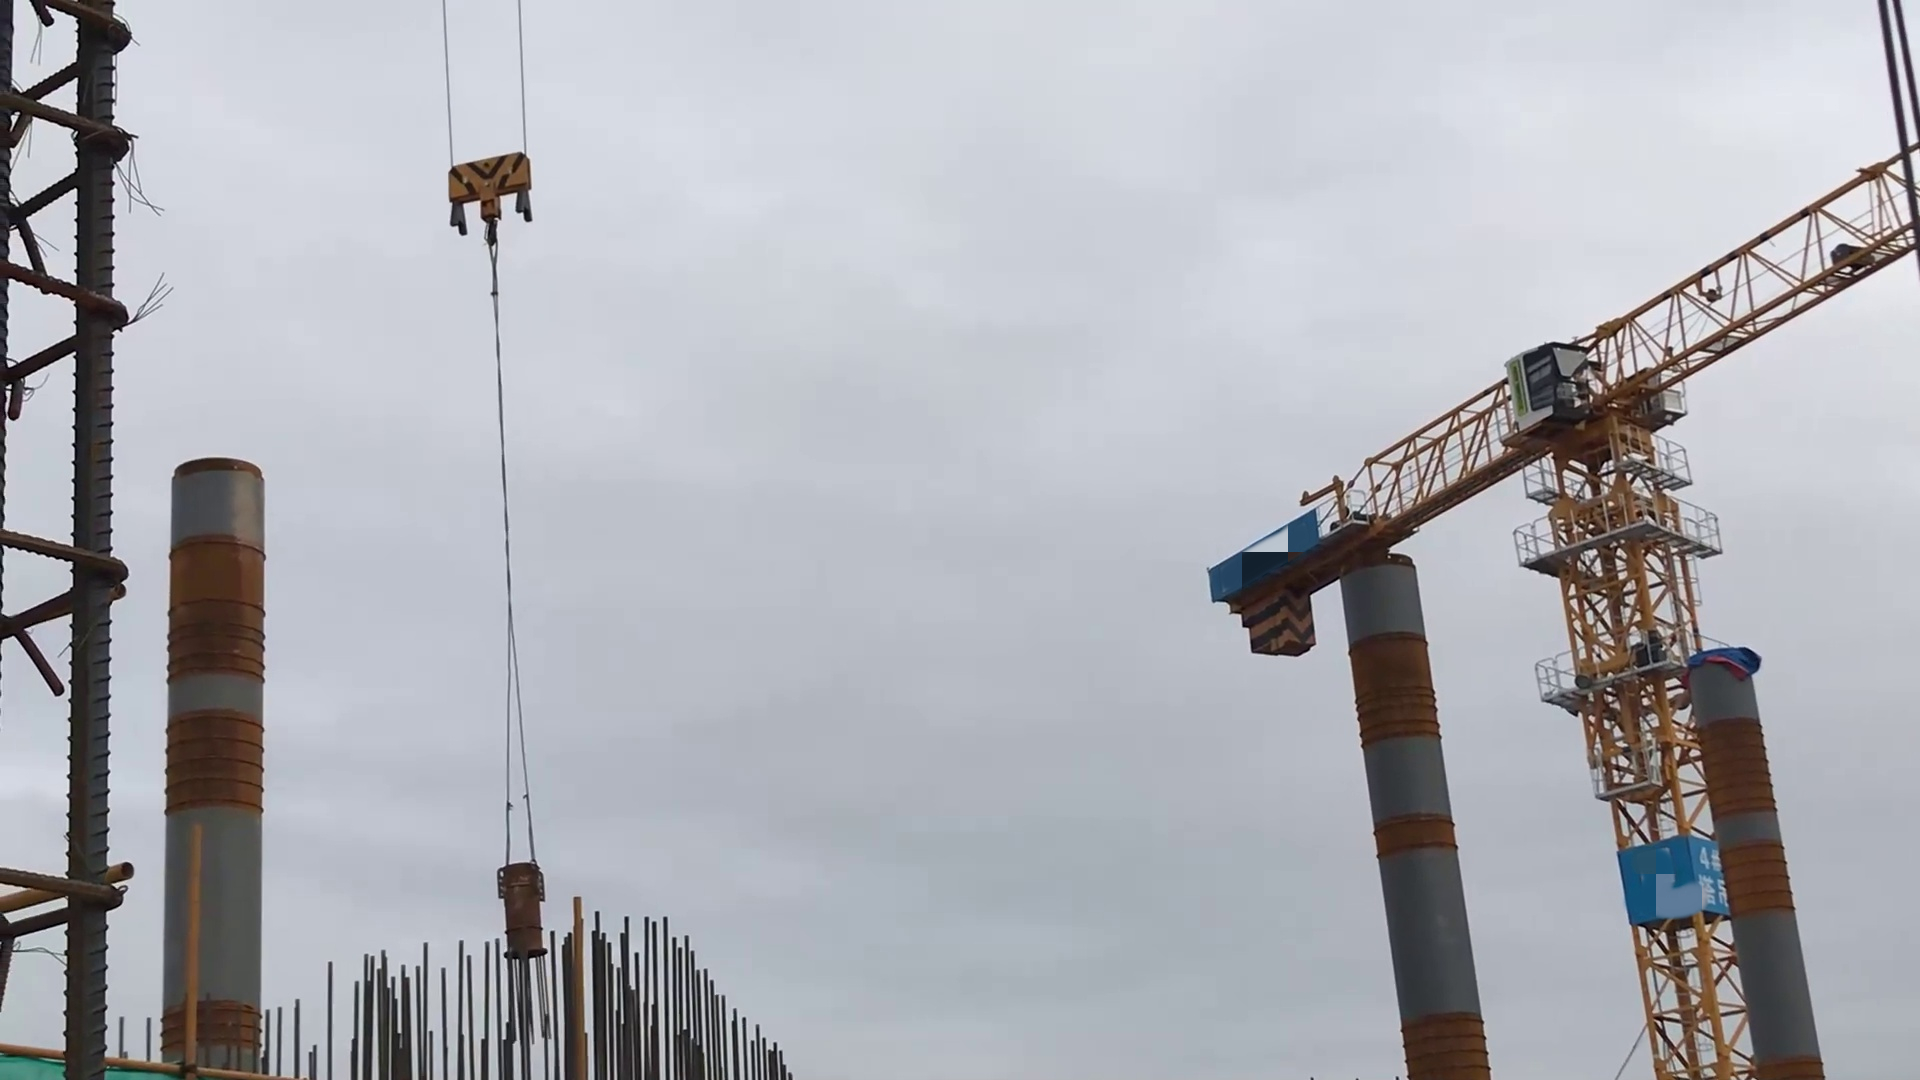hook: (443, 154, 535, 224)
